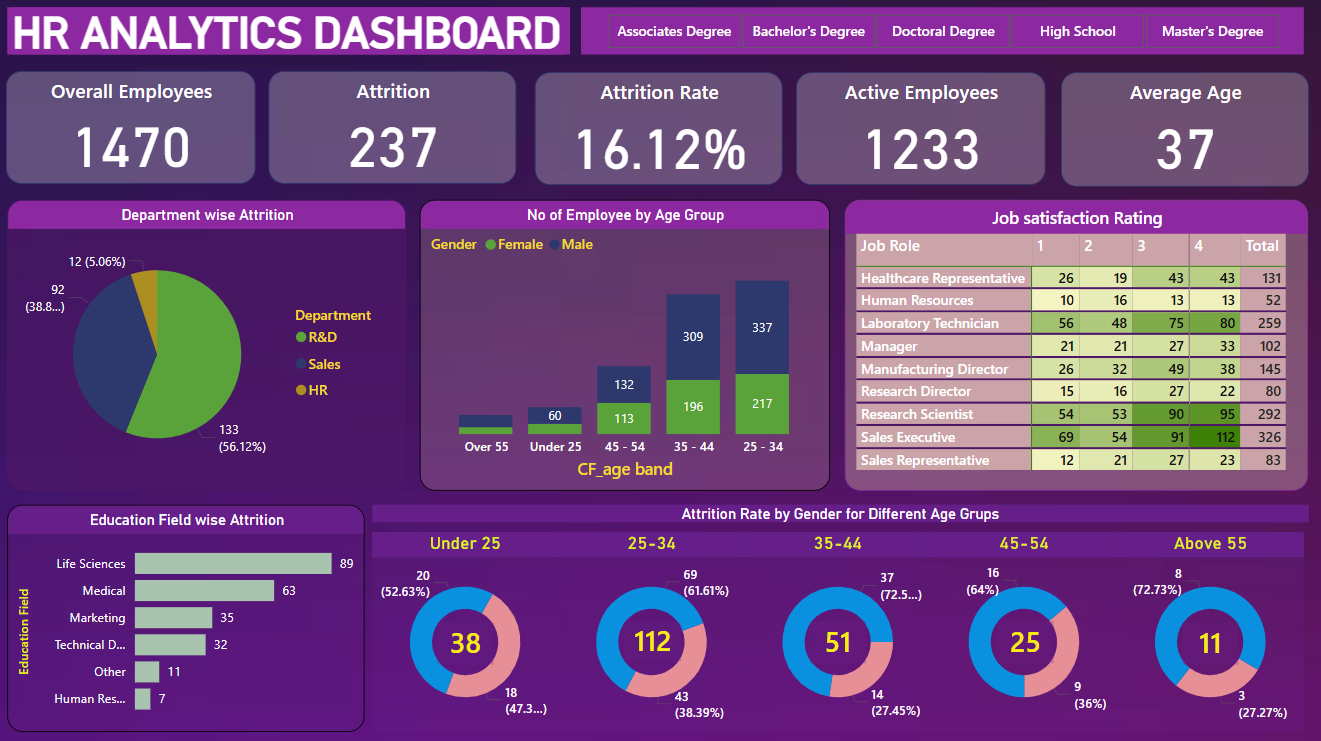

The dashboard page shown, as its layout file describes it:
{"tool":"powerbi","page":{"name":"Page 1","canvas":[1280,720],"ordinal":0},"visuals":[{"type":"card","title":"Overall Employees","fields":{"Values":["Sum(HR data.Employee Count)"]},"box":[9.4,72.6,240.7,108.9],"z":0},{"type":"card","title":"Attrition","fields":{"Values":["Sum(HR data.Attrition count)"]},"box":[263.6,72.6,239.4,108.9],"z":1000},{"type":"card","title":"Attrition Rate","fields":{"Values":["HR data.Attrition Rate"]},"box":[520.4,74,239.4,108.9],"z":2000},{"type":"card","title":"Active Employees","fields":{"Values":["HR data.Active Employees"]},"box":[771.9,74,240.7,108.9],"z":3000},{"type":"card","title":"Average Age","fields":{"Values":["Avg(HR data.Age)"]},"box":[1027.4,74,239.4,110.3],"z":4000},{"type":"pieChart","title":"Department wise Attrition","fields":{"Category":["HR data.Department"],"Y":["Sum(HR data.Attrition count)"]},"box":[10.9,196.6,384.9,281.1],"z":5000},{"type":"columnChart","title":"No of Employee by Age Group","fields":{"Category":["HR data.CF_age band"],"Y":["Sum(HR data.Employee Count)"],"Series":["HR data.Gender"]},"box":[409,196.6,395.7,281.1],"z":6000},{"type":"pivotTable","title":"Job satisfaction Rating","fields":{"Rows":["HR data.Job Role"],"Columns":["HR data.Job Satisfaction"],"Values":["Sum(HR data.Employee Count)"]},"box":[819.2,196.6,447.6,281.1],"z":7000},{"type":"barChart","title":"Education Field wise Attrition","fields":{"Category":["HR data.Education Field"],"Y":["Sum(HR data.Attrition count)"]},"box":[10.9,491,345,219.6],"z":8000},{"type":"donutChart","title":"Under 25","fields":{"Category":["HR data.Gender"],"Y":["Sum(HR data.Attrition count)"],"Series":["HR data.CF_age band"]},"box":[363.1,517.6,179.8,193],"z":9000},{"type":"textbox","title":"Attrition Rate by Gender for Different Age Grups","box":[363.1,491,903.6,16.9],"z":10000},{"type":"donutChart","title":"25-34","fields":{"Category":["HR data.Gender"],"Y":["Sum(HR data.Attrition count)"],"Series":["HR data.CF_age band"]},"box":[542.9,517.6,179.8,193],"z":11000},{"type":"donutChart","title":"35-44","fields":{"Category":["HR data.Gender"],"Y":["Sum(HR data.Attrition count)"],"Series":["HR data.CF_age band"]},"box":[722.7,517.6,179.8,193],"z":12000},{"type":"donutChart","title":"45-54","fields":{"Category":["HR data.Gender"],"Y":["Sum(HR data.Attrition count)"],"Series":["HR data.CF_age band"]},"box":[902.4,517.6,179.8,193],"z":13000},{"type":"donutChart","title":"Above 55","fields":{"Category":["HR data.Gender"],"Y":["Sum(HR data.Attrition count)"],"Series":["HR data.CF_age band"]},"box":[1082.2,517.6,179.8,193],"z":14000},{"type":"card","fields":{"Values":["Sum(HR data.Attrition count)"]},"box":[425.9,604.4,54.3,41],"z":15000},{"type":"card","fields":{"Values":["Sum(HR data.Attrition count)"]},"box":[606.8,604.4,54.3,37.4],"z":16000},{"type":"card","fields":{"Values":["Sum(HR data.Attrition count)"]},"box":[785.4,603.2,54.3,41],"z":17000},{"type":"card","fields":{"Values":["Sum(HR data.Attrition count)"]},"box":[966.4,603.2,54.3,41],"z":18000},{"type":"card","fields":{"Values":["Sum(HR data.Attrition count)"]},"box":[1144.9,604.4,54.3,41],"z":19000},{"type":"textbox","title":"HR ANALYTICS DASHBOARD","box":[10.9,10.9,542.9,45.8],"z":20000},{"type":"slicer","fields":{"Values":["HR data.Education"]},"box":[564.6,10.9,697.3,45.8],"z":21000}]}

Visuals, with their boxes in screenshot pixels (x1, y1, x2, y2), scaled from the page's 1280x720 canvas onto the 1321x741 screenshot:
"Overall Employees" card: (x1=10, y1=75, x2=258, y2=187)
"Attrition" card: (x1=272, y1=75, x2=519, y2=187)
"Attrition Rate" card: (x1=537, y1=76, x2=784, y2=188)
"Active Employees" card: (x1=797, y1=76, x2=1045, y2=188)
"Average Age" card: (x1=1060, y1=76, x2=1307, y2=190)
"Department wise Attrition" pieChart: (x1=11, y1=202, x2=408, y2=492)
"No of Employee by Age Group" columnChart: (x1=422, y1=202, x2=830, y2=492)
"Job satisfaction Rating" pivotTable: (x1=845, y1=202, x2=1307, y2=492)
"Education Field wise Attrition" barChart: (x1=11, y1=505, x2=367, y2=731)
"Under 25" donutChart: (x1=375, y1=533, x2=560, y2=731)
"Attrition Rate by Gender for Different Age Grups" textbox: (x1=375, y1=505, x2=1307, y2=523)
"25-34" donutChart: (x1=560, y1=533, x2=746, y2=731)
"35-44" donutChart: (x1=746, y1=533, x2=931, y2=731)
"45-54" donutChart: (x1=931, y1=533, x2=1117, y2=731)
"Above 55" donutChart: (x1=1117, y1=533, x2=1302, y2=731)
card - Sum(HR data.Attrition count): (x1=440, y1=622, x2=496, y2=664)
card - Sum(HR data.Attrition count): (x1=626, y1=622, x2=682, y2=661)
card - Sum(HR data.Attrition count): (x1=811, y1=621, x2=867, y2=663)
card - Sum(HR data.Attrition count): (x1=997, y1=621, x2=1053, y2=663)
card - Sum(HR data.Attrition count): (x1=1182, y1=622, x2=1238, y2=664)
"HR ANALYTICS DASHBOARD" textbox: (x1=11, y1=11, x2=572, y2=58)
slicer - HR data.Education: (x1=583, y1=11, x2=1302, y2=58)
